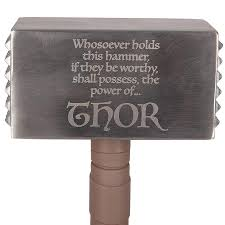THOR Hammer: (10, 14, 219, 216)
